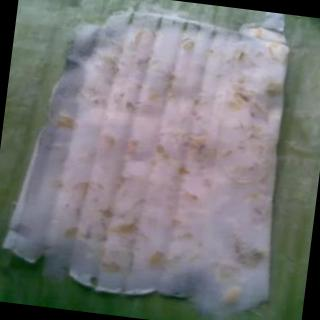Tempe: (1, 1, 304, 320)
